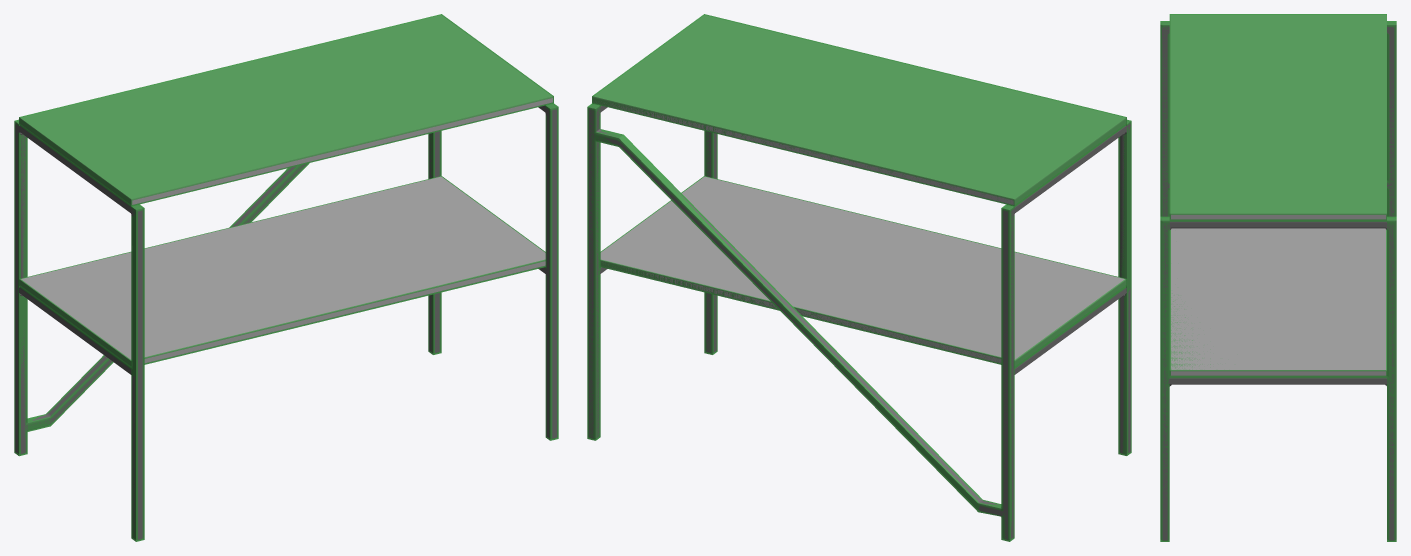
Rendered from Shelves_03_Mesh.fbx.
The picture shows the model from 3 angles, left to right: view 1: azimuth 30°, elevation 25°; view 2: azimuth 150°, elevation 25°; view 3: azimuth 270°, elevation 25°; orthographic projection. The views are drawn at different scales.
Visible parts, largest first — view 1: OfficeShelves_01A_LOD0, OfficeShelves_01A_col; view 2: OfficeShelves_01A_LOD0, OfficeShelves_01A_col; view 3: OfficeShelves_01A_LOD0, OfficeShelves_01A_col.
Boxes of the visible parts, box(x1,y1,x2,y2) form: OfficeShelves_01A_LOD0: box(15, 15, 556, 539); OfficeShelves_01A_col: box(14, 14, 558, 541); OfficeShelves_01A_LOD0: box(589, 15, 1130, 539); OfficeShelves_01A_col: box(587, 14, 1131, 541); OfficeShelves_01A_LOD0: box(1161, 15, 1395, 540); OfficeShelves_01A_col: box(1160, 14, 1396, 541).
Size of what is drawn, in the model's own units: 1 by 0.7669 by 0.5.
